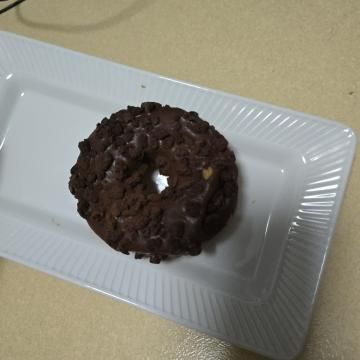doughnut: (95, 117, 276, 306)
